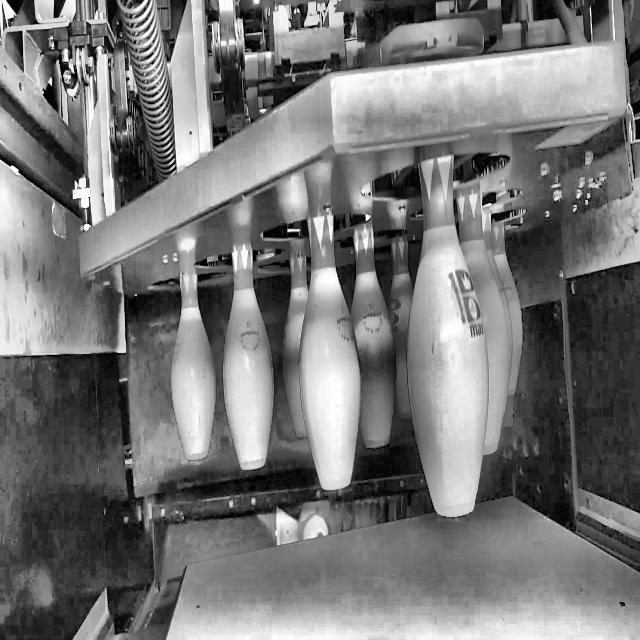bowling-pins: (408, 157, 489, 516), (300, 216, 361, 490), (456, 180, 510, 454), (223, 243, 274, 470), (351, 217, 396, 447), (171, 238, 215, 460), (492, 222, 523, 395), (483, 208, 513, 373), (283, 257, 308, 437), (389, 236, 413, 418)
